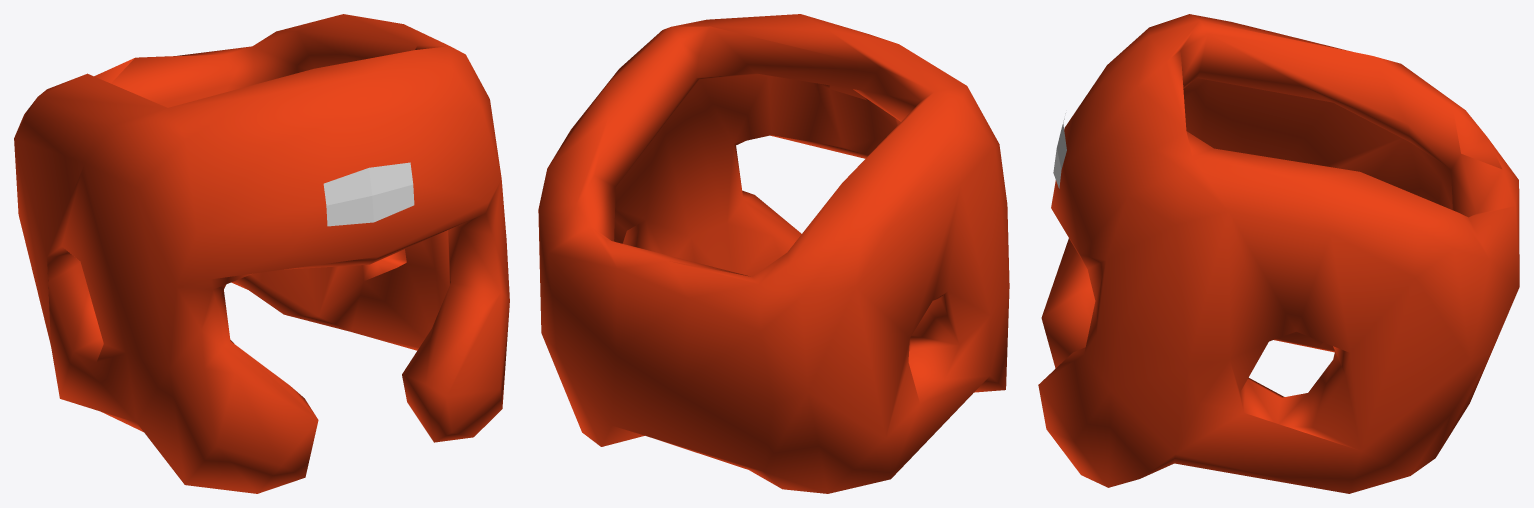
File: Boxer_helmet.glb
3 renders of one model, left to right at view 1: azimuth 30°, elevation 25°; view 2: azimuth 150°, elevation 25°; view 3: azimuth 270°, elevation 25°, orthographic. The views are drawn at different scales.
Parts seen in each view (by area): view 1: casco.002; view 2: casco.002; view 3: casco.002.
Part boxes in pixels (x1,y1,x2,y2): casco.002: (14, 14, 509, 493); casco.002: (538, 14, 1009, 493); casco.002: (1038, 14, 1519, 493).
Bounding box in the file's own units: 0.2198 × 0.2083 × 0.253.
